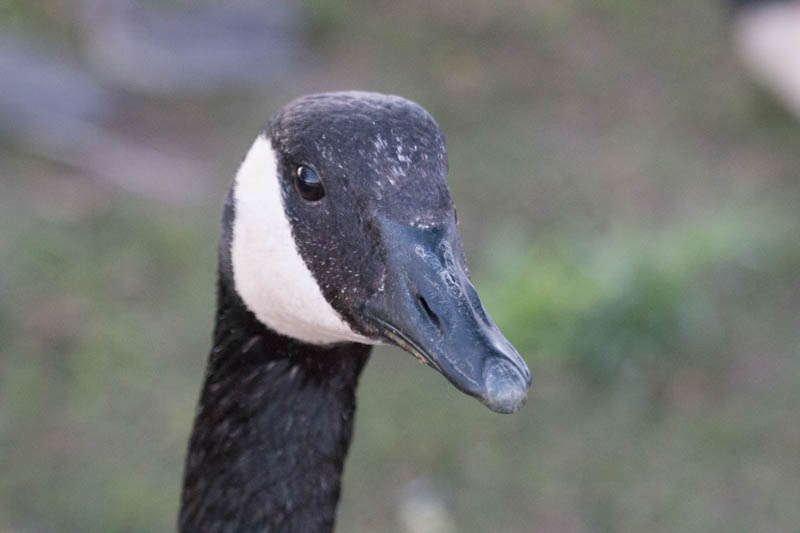goose-head: (218, 90, 532, 417)
